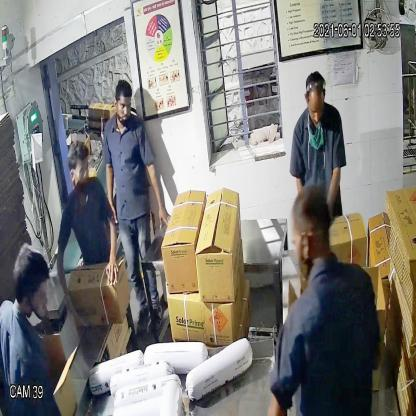goggles: (66, 159, 91, 185)
no_goggles: (304, 100, 326, 122)
